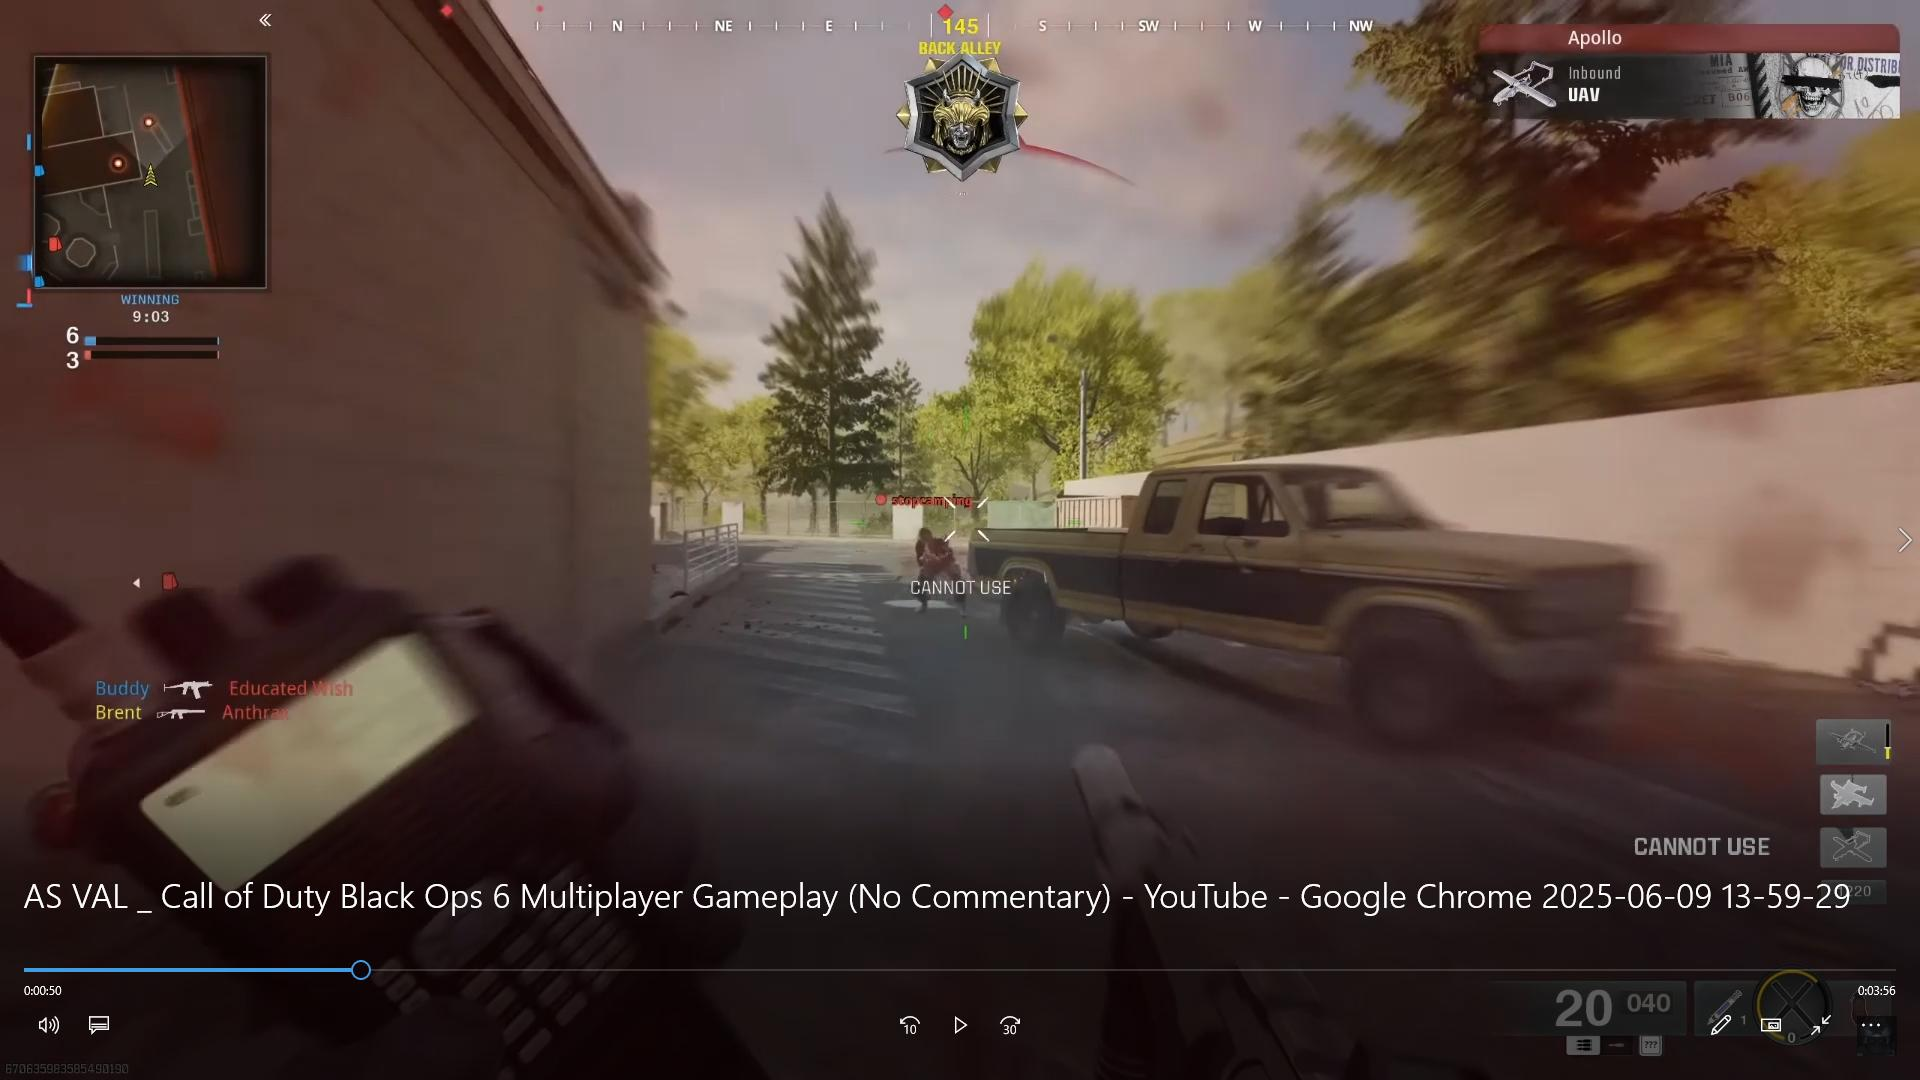Enemy: (899, 516, 964, 597)
